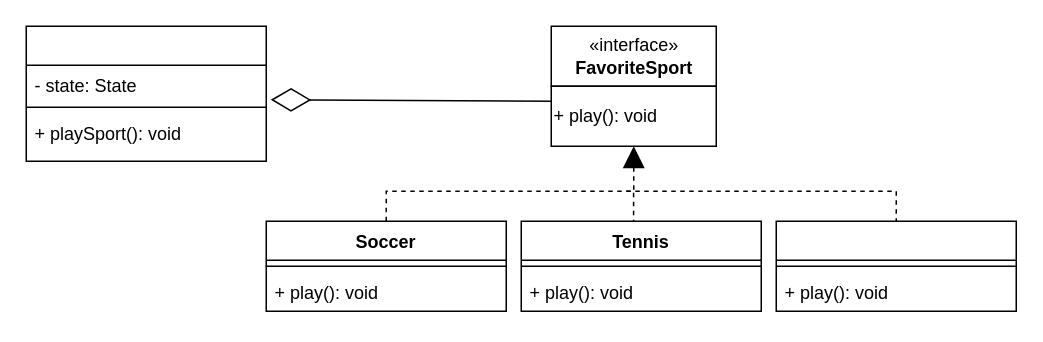
Some shapes in this 1043 by 342 pixel diagram are drawn without their labels. The box of each missing label's shape, as (x1, y1, x2, y2) in pixels:
Hockey: (775, 220, 1016, 311)
Person: (25, 25, 266, 161)
